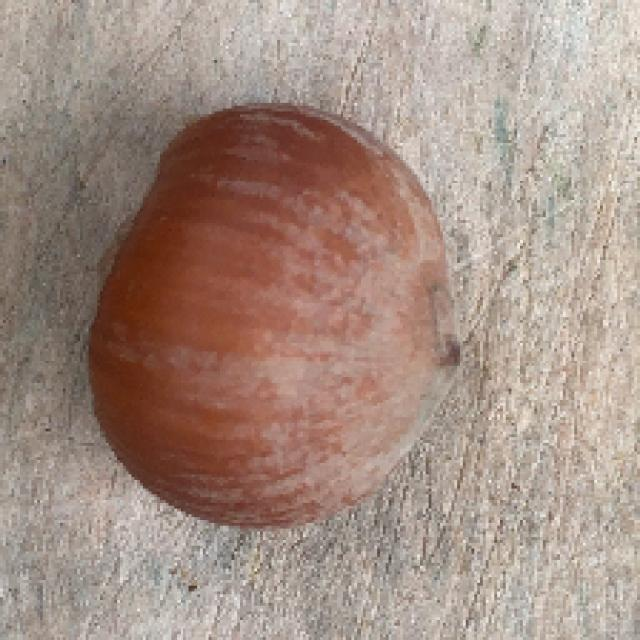qualityHazelnut: (85, 98, 469, 531)
